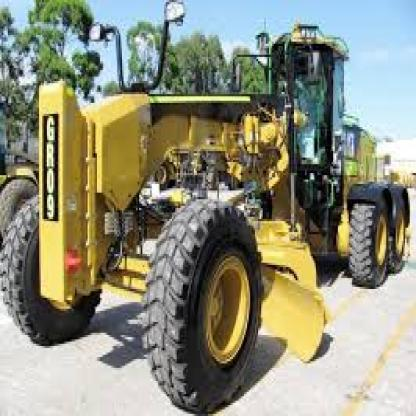bull_dozer/loader/grader: (16, 7, 414, 405)
